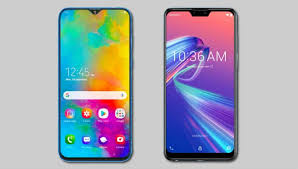asus: (55, 5, 135, 163), (161, 4, 241, 162)
